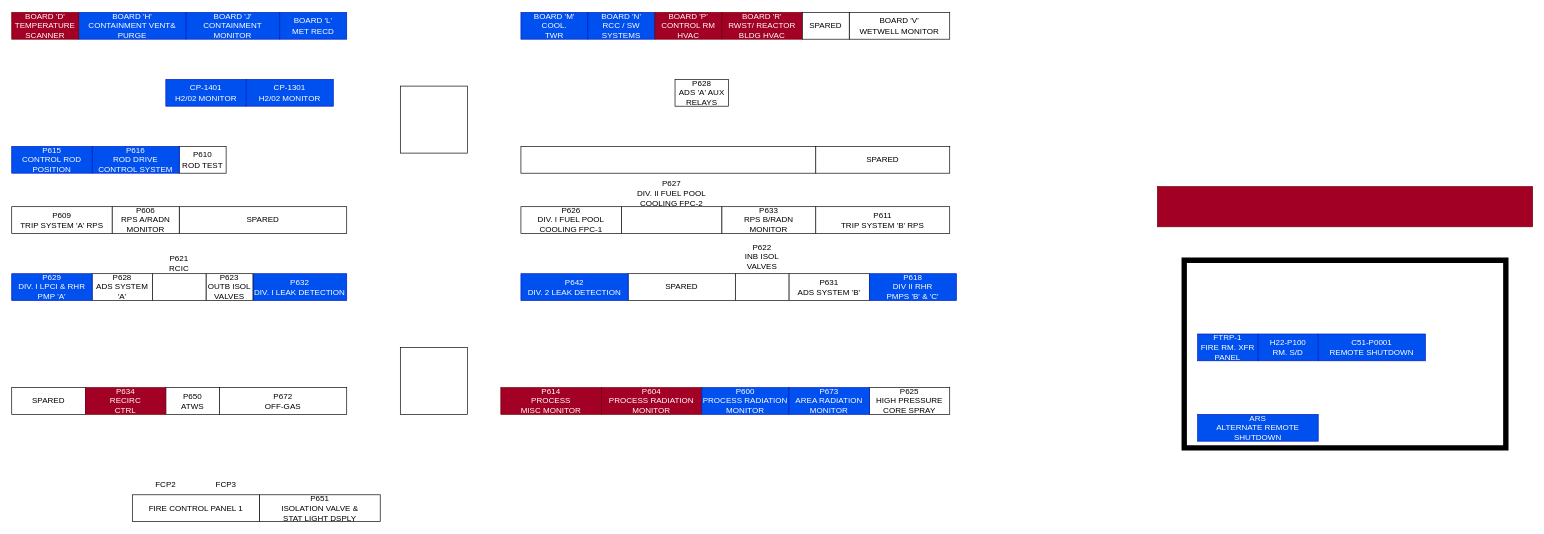
This 1544x534 diagram has some shape labels left out. The shapes that lost their labels are listed below. From the top down, each one's box as (x1, y1, x2, y2) in pixels, then its label:
(520, 146, 816, 173): P608 POWER RANGE NEUTRON MONITORING
(1157, 186, 1533, 227): Remote Shutdown Room
